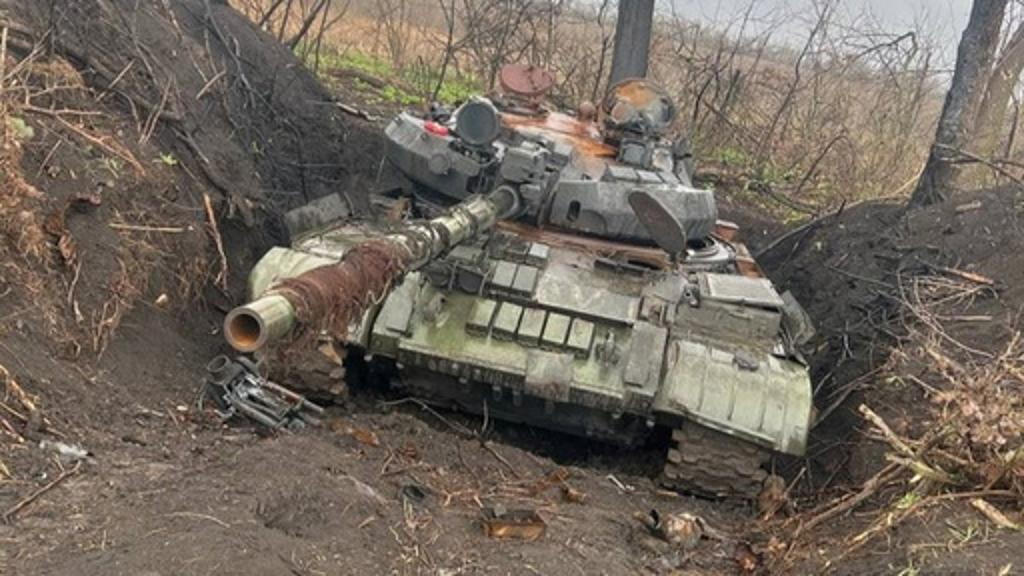TANK: (220, 72, 814, 526)
